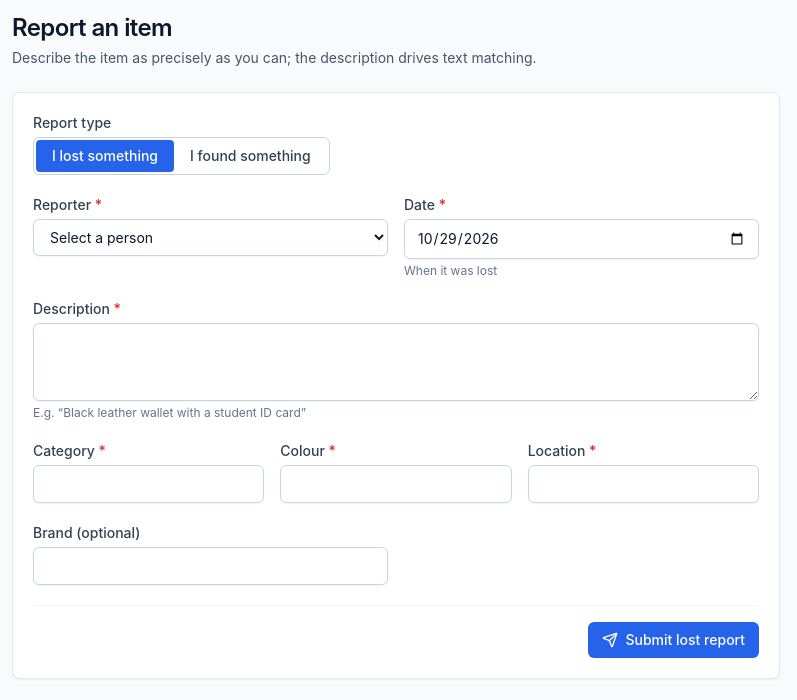
it: Report an item › shows server validation errors next to the field they concern
This screenshot has width=797, height=700.
Select "Suma (U001)" in the dropdown labelled "Reporter *" at (210, 238), box [33,219,388,256]
Type "Black leather wallet with a student ID card" into the text box labelled "Description *" at (396, 362), box [33,323,759,401]
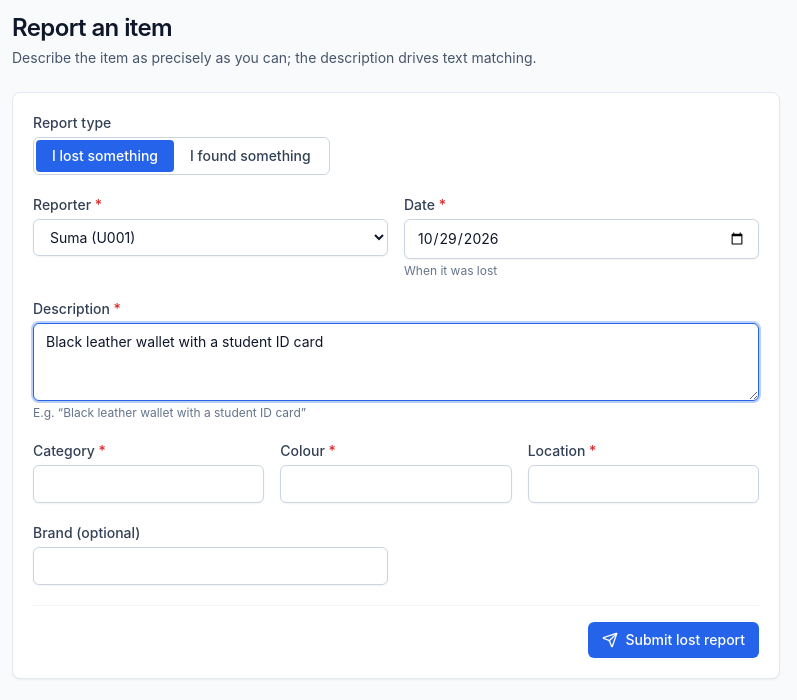
Type "Wallet" into the field labelled "Category *" at (149, 484), box [33,465,264,503]
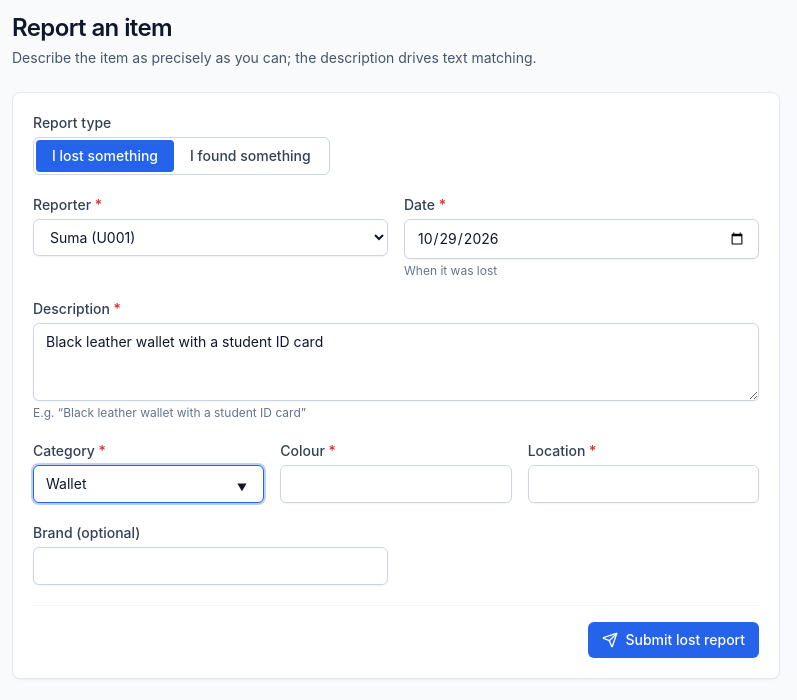
Type "black" into the field labelled "Colour *" at (396, 484), box [280,465,512,503]
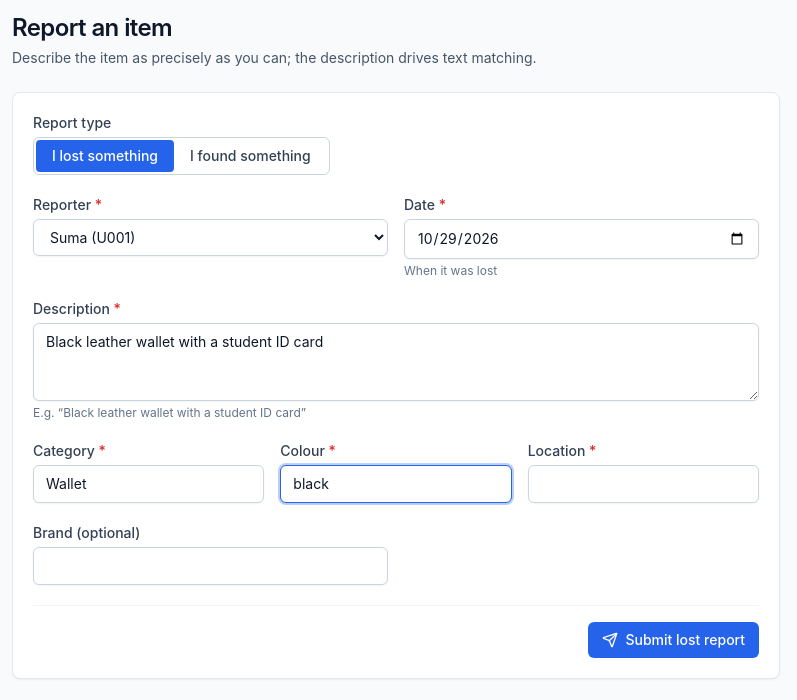
Type "Library" into the field labelled "Location *" at (643, 484), box [528,465,759,503]
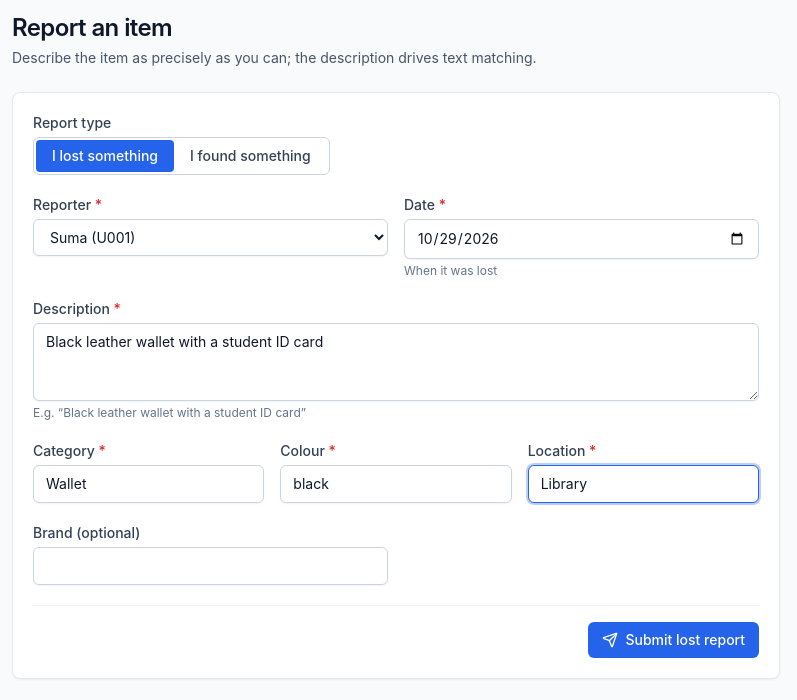
Type "2026-03-20" into the date field labelled "Date *" at (582, 239), box [404,219,759,259]
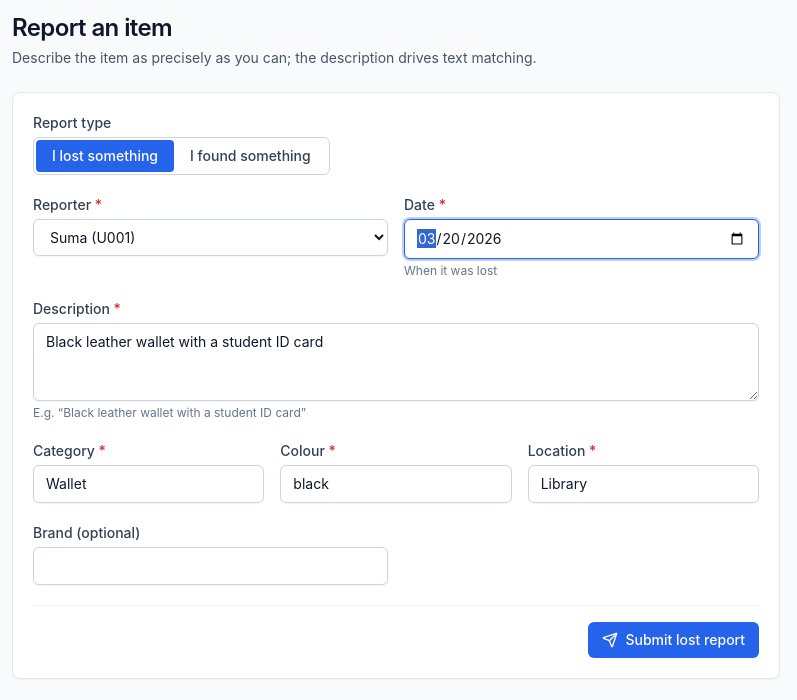
Click the button "Submit lost report" at (673, 640), box [588,622,759,658]
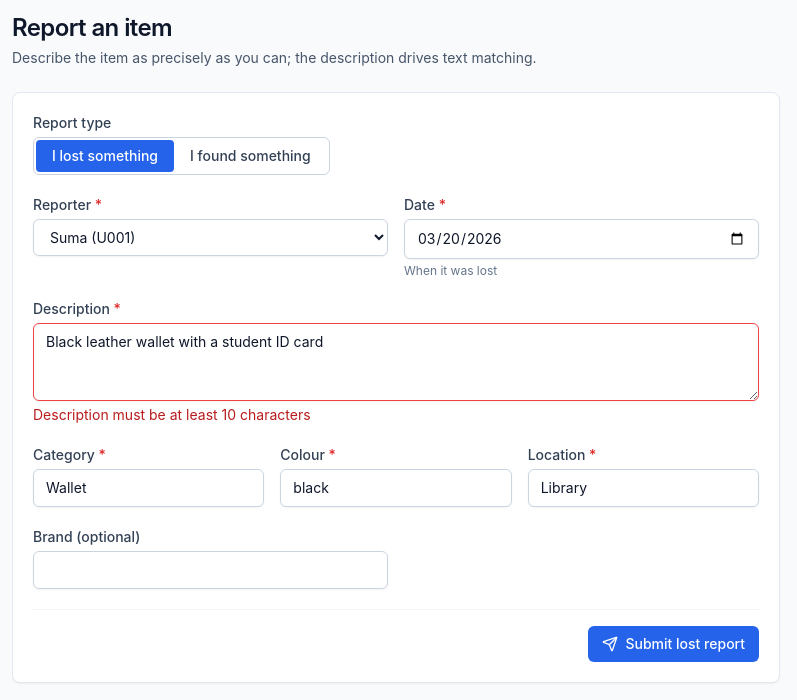
Check: the text "Description must be at least 10 characters" is shown, box [33,406,311,423]
